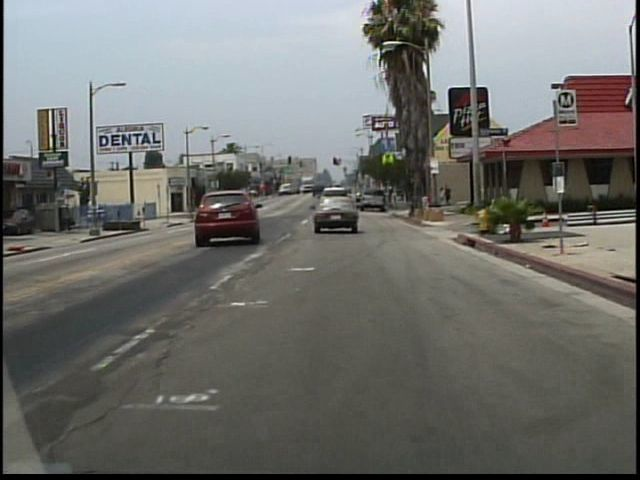person: (444, 183, 453, 207), (439, 185, 447, 208)
